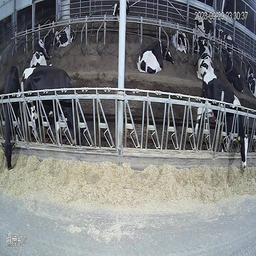cow: (23, 66, 89, 148), (200, 69, 250, 172), (1, 64, 22, 170), (135, 39, 175, 74), (223, 49, 244, 91), (194, 41, 214, 81), (29, 33, 52, 65), (194, 16, 217, 38), (54, 25, 76, 48), (171, 30, 188, 58), (112, 1, 130, 27), (218, 26, 234, 54), (246, 64, 256, 97)
